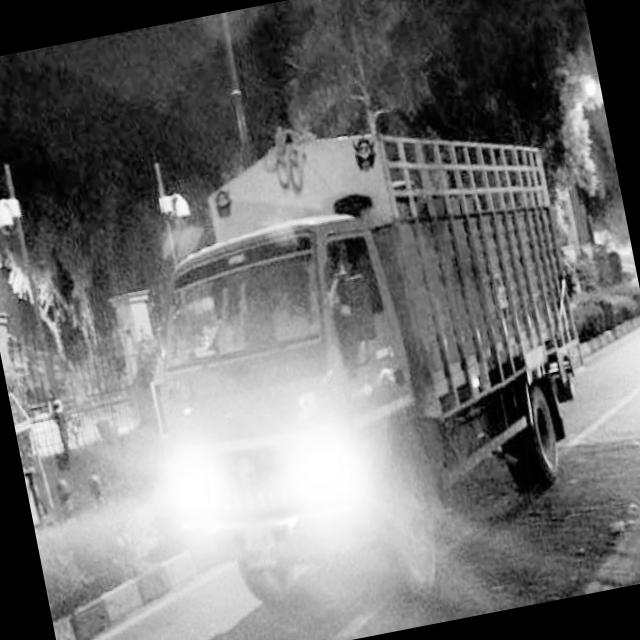Truck: (101, 79, 626, 640)
